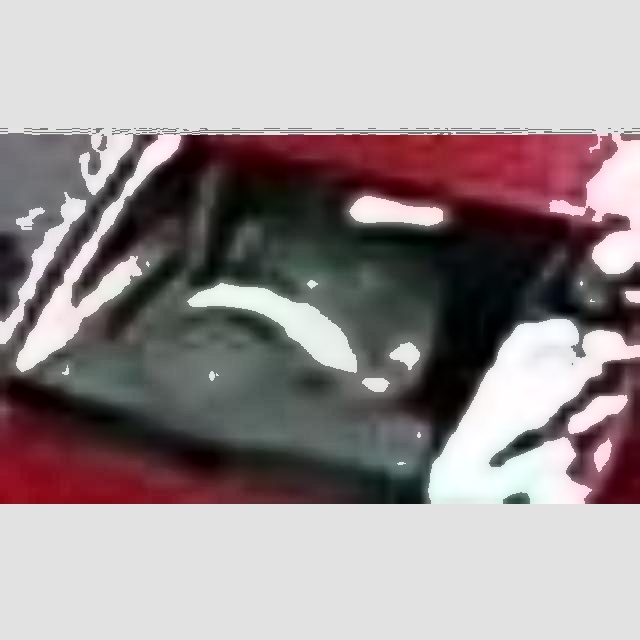tidak-pakai: (189, 180, 424, 387)
